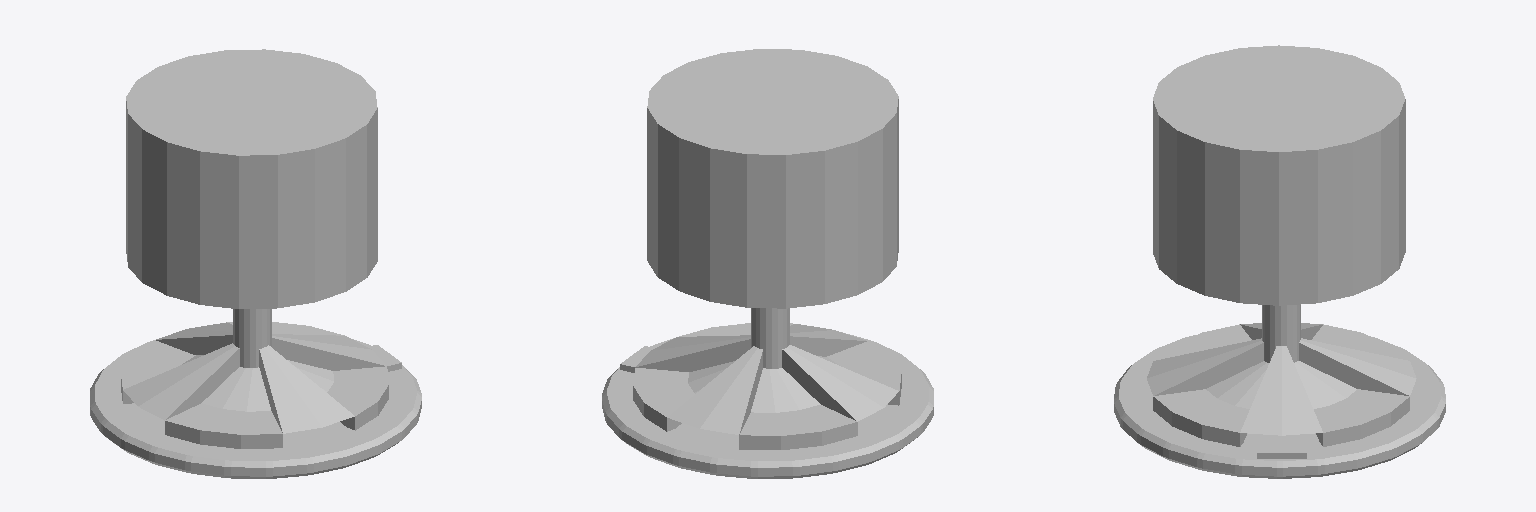
The model's file is Lamp Mesh.obj.
3 views of the same model, side by side, from view 1: azimuth 30°, elevation 25°; view 2: azimuth 150°, elevation 25°; view 3: azimuth 270°, elevation 25° (orthographic).
Visible parts, largest first — view 1: pCylinder4; view 2: pCylinder4; view 3: pCylinder4.
Boxes of the visible parts, box(x1,y1,x2,y2) form: pCylinder4: box(90, 49, 421, 478); pCylinder4: box(602, 49, 933, 478); pCylinder4: box(1114, 45, 1445, 478).
Bounding box in the file's own units: 6.76 × 6.96 × 6.78.